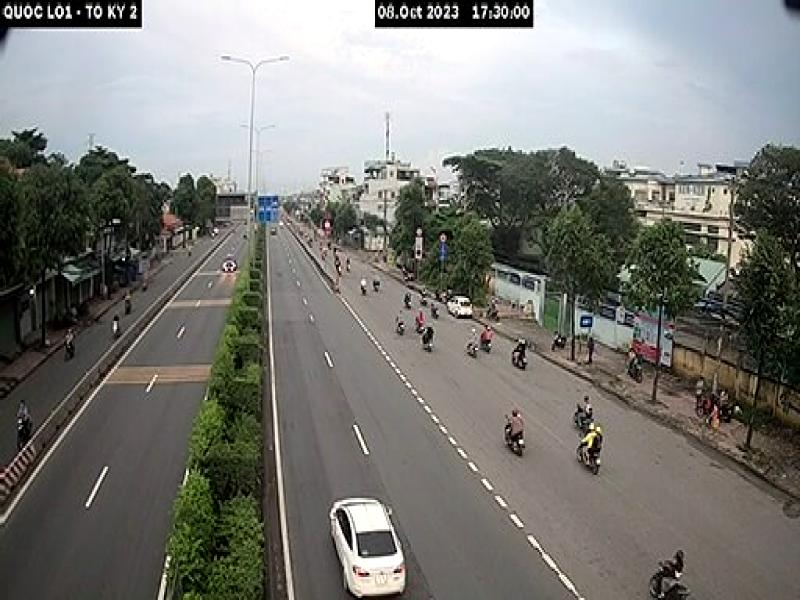car: (330, 498, 406, 597)
